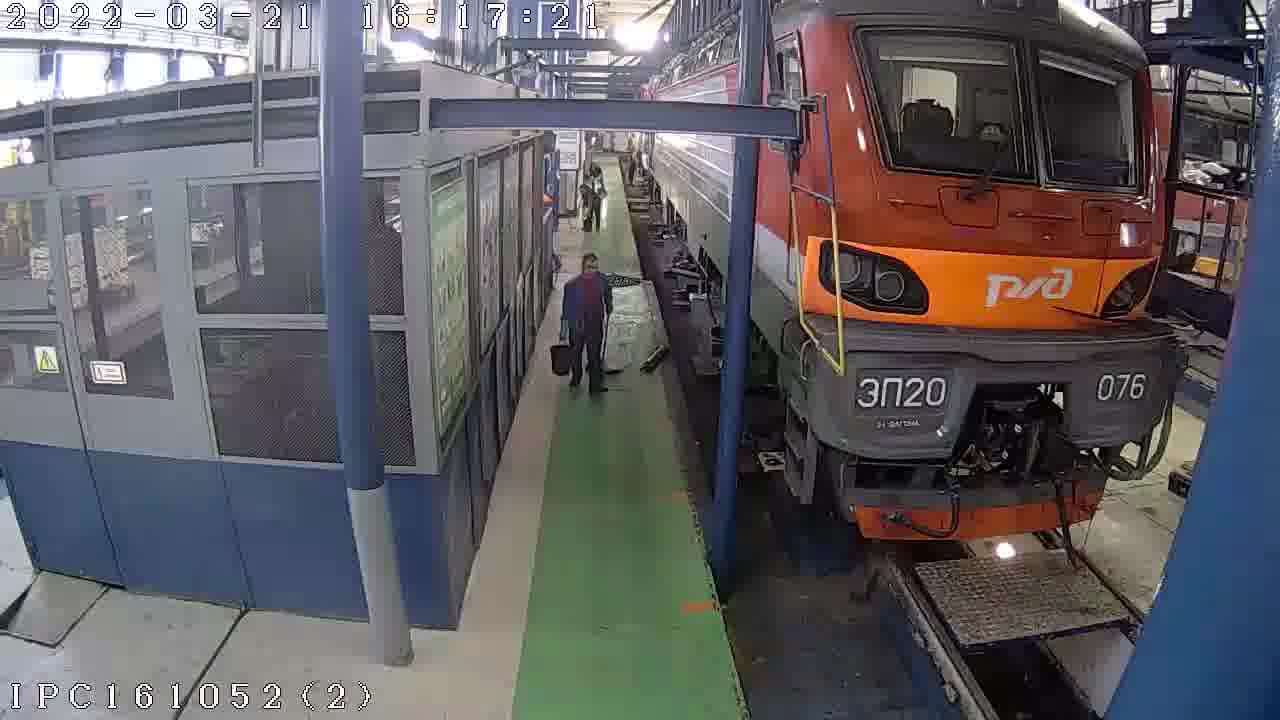person: (554, 244, 622, 401), (577, 185, 605, 229), (619, 138, 639, 190), (586, 162, 608, 191)
worker: (639, 0, 1248, 543)
